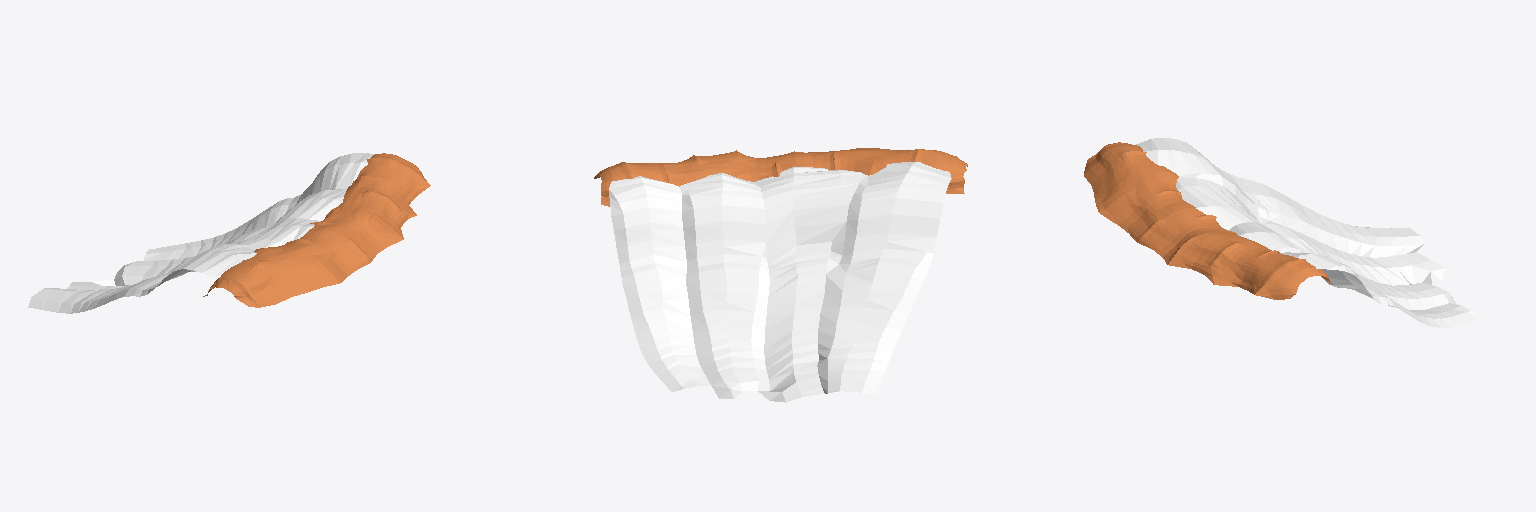
Rendered from WaterFall__Part01b.obj.
The picture shows the model from 3 angles: view 1: azimuth 30°, elevation 25°; view 2: azimuth 150°, elevation 25°; view 3: azimuth 270°, elevation 25°; orthographic projection.
Visible parts, largest first — view 1: Rolling_Waves, GameObject__3_; view 2: GameObject__3_, Rolling_Waves; view 3: GameObject__3_, Rolling_Waves.
Part boxes in pixels (left/top/right/bottom): Rolling_Waves: left=203, top=153, right=430, bottom=307; GameObject__3_: left=28, top=153, right=374, bottom=313; GameObject__3_: left=609, top=162, right=951, bottom=402; Rolling_Waves: left=594, top=148, right=967, bottom=206; GameObject__3_: left=1136, top=138, right=1475, bottom=327; Rolling_Waves: left=1084, top=142, right=1332, bottom=299.
Size of the model in its own units: 48921 by 18950 by 49421.